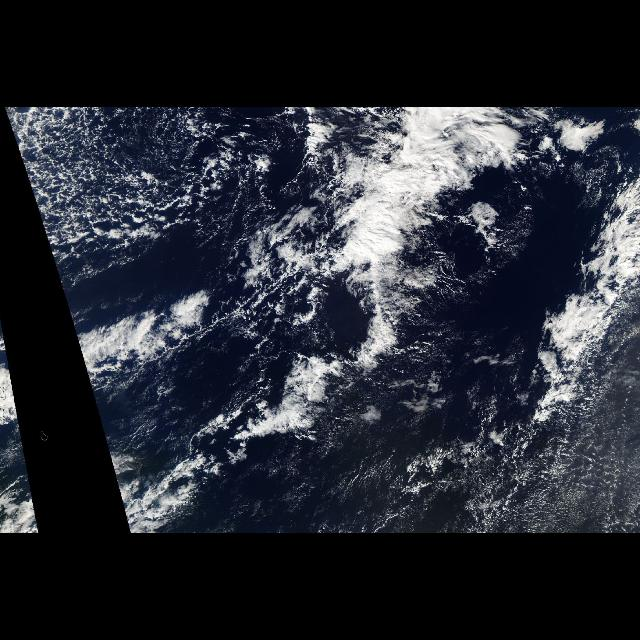Fish: (87, 250, 626, 428)
Gravel: (9, 110, 287, 276)
